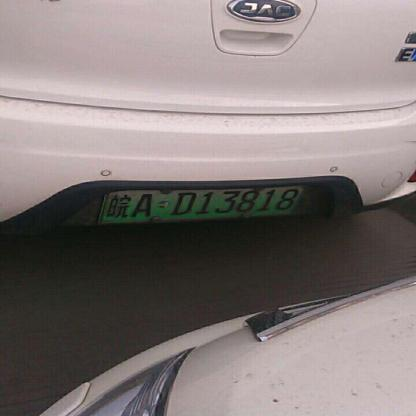lp: (99, 185, 304, 222)
